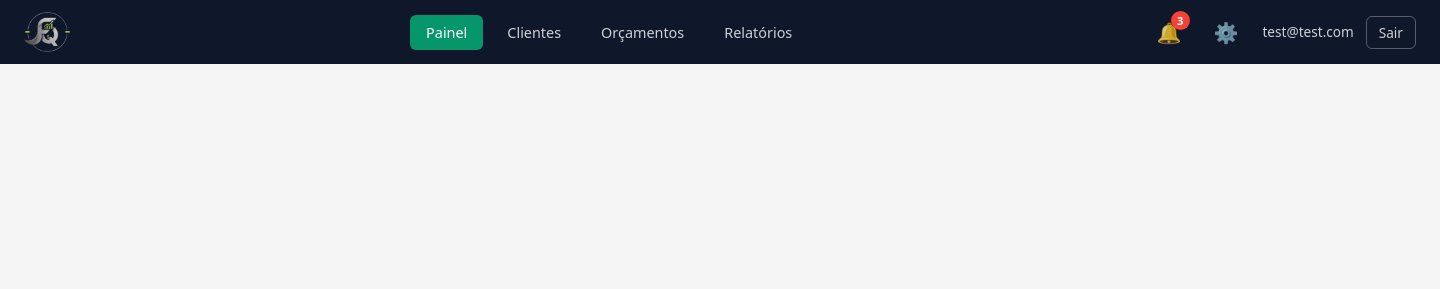
Test: AdminLayout › deve abrir dropdown de notificações ao clicar no ícone
The image size is (1440, 289).
Click the button titled "Notificações". click: (1169, 32)
box: [1148, 10, 1190, 54]
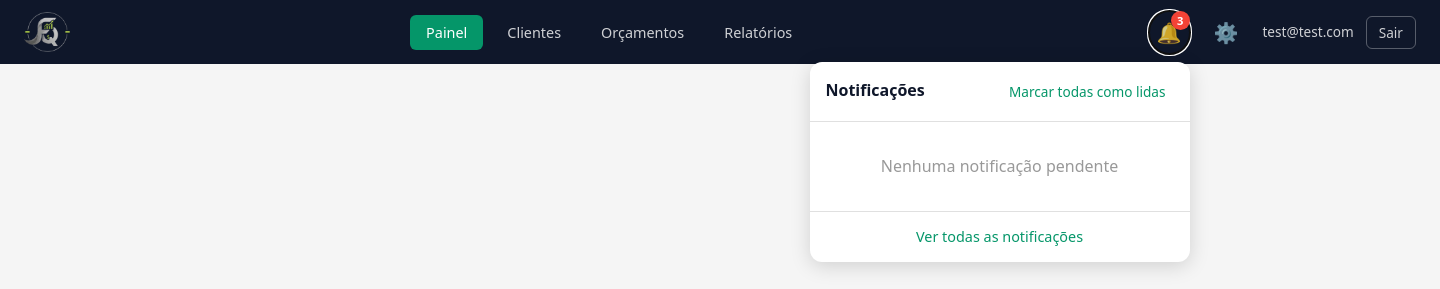
Expected: the text "Nenhuma notificação pendente" is shown, [881, 154, 1118, 176]
